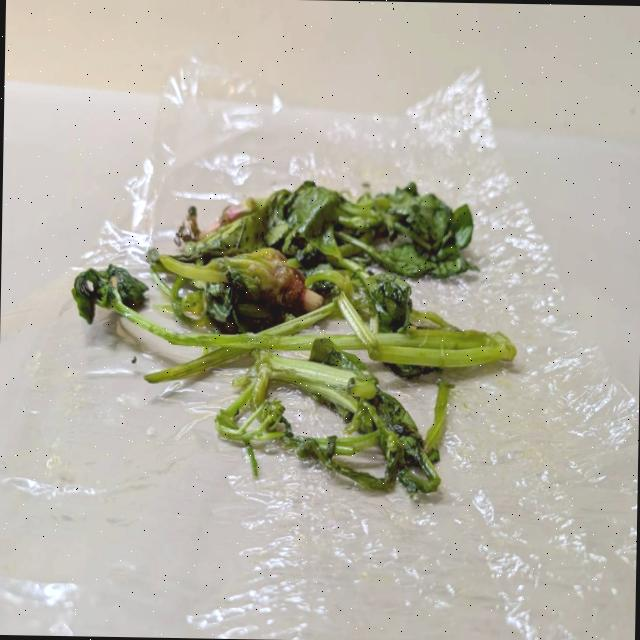rotten spinach: (79, 148, 511, 524), (246, 119, 454, 526), (166, 180, 340, 506), (364, 162, 547, 410), (69, 240, 237, 411)
